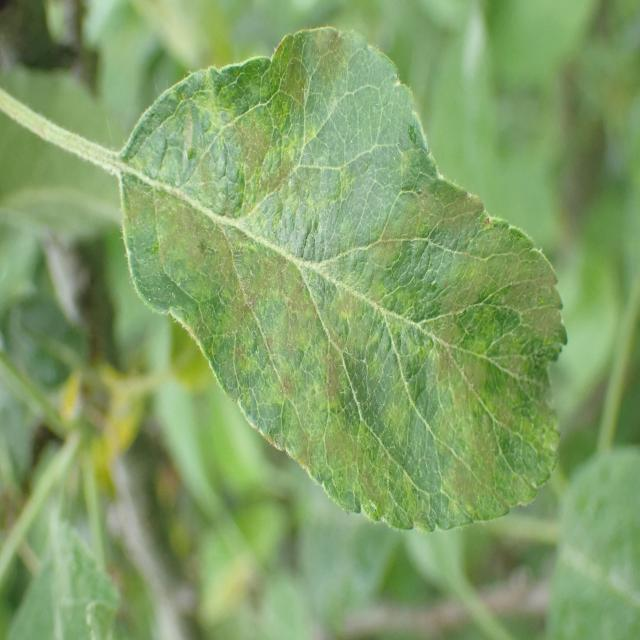scab: (135, 22, 563, 500)
